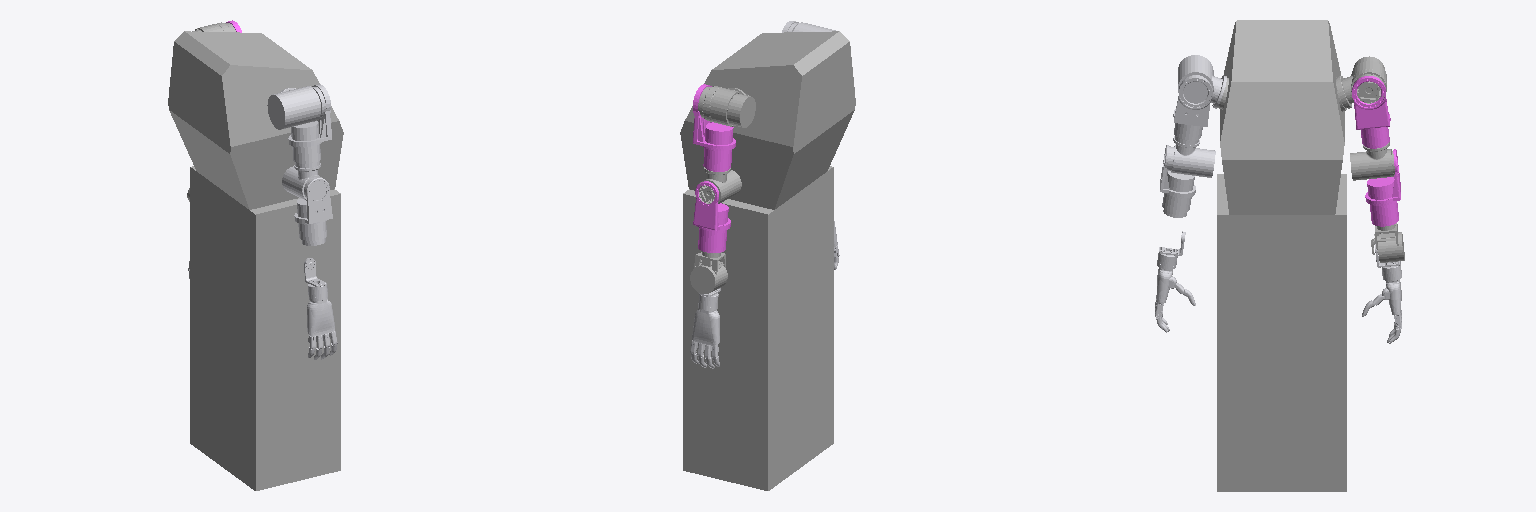
robot.urdf — newnursing:
<robot
  name="newnursing">

  <link name="world"/>
  <joint
        name="base_connected2_world"
        type="fixed">
        <origin
        xyz="0 0 0.7"
        rpy="0 0 -1.570796" />
        <parent
        link="world" />
        <child
        link="base_Link" />
  </joint>

  <link
    name="base_Link">
    <inertial>
      <origin
        xyz="0.00125118023217667 0.00571211217189015 -0.140709209620161"
        rpy="0 0 0" />
      <mass
        value="95.5038362880811" />
      <inertia
        ixx="11.0907233740476"
        ixy="0.000682554632591413"
        ixz="-0.0517799038169192"
        iyy="11.3066493157079"
        iyz="0.493087614689815"
        izz="1.35548319771507" />
    </inertial>
    <visual>
      <origin
        xyz="0 0 0"
        rpy="0 0 0" />
      <geometry>
        <mesh
          filename="package://assembly/meshes/L0.STL" />
      </geometry>
      <material
        name="">
        <color
          rgba="0.752941176470588 0.752941176470588 0.752941176470588 1" />
      </material>
    </visual>
    <collision>
      <origin
        xyz="0 0 0"
        rpy="0 0 0" />
      <geometry>
        <mesh
          filename="package://assembly/meshes/L0.STL" />
      </geometry>
    </collision>
  </link>

  <joint name="neck_link_joint" type="fixed">
    <origin xyz="0 0 1.052" rpy="0 0 0"/>
    <parent link="base_Link"/>
    <child link="neck_link"/>
  </joint>
  <link name="neck_link"/>
  
  <joint name="camera_joint" type="fixed">
    <origin xyz="0.0781 0 -0.322" rpy="0 -0.000528726 0"/>
    <parent link="neck_link"/>
    <child link="camera_mount_link"/>
  </joint>
  <link name="camera_mount_link"/>


  <link
    name="LR1">
    <inertial>
      <origin
        xyz="8.98828320106126E-09 -0.00293592242745783 -0.0212534141841283"
        rpy="0 0 0" />
      <mass
        value="2.15747169774314" />
      <inertia
        ixx="0.0039159844519028"
        ixy="9.55754457347691E-10"
        ixz="-2.77111575117903E-10"
        iyy="0.00365262349092814"
        iyz="0.000102299773397755"
        izz="0.00239174812495883" />
    </inertial>
    <visual>
      <origin
        xyz="0 0 0"
        rpy="0 0 0" />
      <geometry>
        <mesh
          filename="package://assembly/meshes/LR1.STL" />
      </geometry>
      <material
        name="">
        <color
          rgba="0.866666666666667 0.866666666666667 0.890196078431372 1" />
      </material>
    </visual>
    <collision>
      <origin
        xyz="0 0 0"
        rpy="0 0 0" />
      <geometry>
        <mesh
          filename="package://assembly/meshes/LR1.STL" />
      </geometry>
    </collision>
  </link>
  <joint
    name="JR1"
    type="revolute">
    <origin
      xyz="0.21718 0.005 0.33244"
      rpy="1.5708 -1.2217 3.1416" />
    <parent
      link="base_Link" />
    <child
      link="LR1" />
    <axis
      xyz="0 -1 0" />
    <limit
      lower="-2.0858"
      upper="0.6184"
      effort="120"
      velocity="6" />
    <dynamics
      damping="2"
      friction="0.3" />
  </joint>



  <link
    name="LR2">
    <inertial>
      <origin
        xyz="7.96974763961344E-10 0.0015000865054824 -0.0924071969744042"
        rpy="0 0 0" />
      <mass
        value="1.37522903314702" />
      <inertia
        ixx="0.00255574962153346"
        ixy="-8.72623878301597E-11"
        ixz="2.40396158064827E-10"
        iyy="0.00236365743499222"
        iyz="-0.000425917906294408"
        izz="0.00129320260941946" />
    </inertial>
    <visual>
      <origin
        xyz="0 0 0"
        rpy="0 0 0" />
      <geometry>
        <mesh
          filename="package://assembly/meshes/LR2.STL" />
      </geometry>
      <material
        name="">
        <color
          rgba="0.866666666666667 0.866666666666667 0.890196078431372 1" />
      </material>
    </visual>
    <collision>
      <origin
        xyz="0 0 0"
        rpy="0 0 0" />
      <geometry>
        <mesh
          filename="package://assembly/meshes/LR2.STL" />
      </geometry>
    </collision>
  </link>
  <joint
    name="JR2"
    type="revolute">
    <origin
      xyz="0 0 0"
      rpy="1.5708 1.6259E-14 1.7757" />
    <parent
      link="LR1" />
    <child
      link="LR2" />
    <axis
      xyz="0 -1 0" />
    <limit
      lower="-0.0199"
      upper="1.9192"
      effort="120"
      velocity="6" />
    <dynamics
      damping="2"
      friction="0.3" />
  </joint>


  <link
    name="LR3">
    <inertial>
      <origin
        xyz="4.65691851040707E-08 -0.0512426233861256 0.016370508405232"
        rpy="0 0 0" />
      <mass
        value="1.34826710835918" />
      <inertia
        ixx="0.00208076254874643"
        ixy="-4.03797785551324E-09"
        ixz="-4.6534220074945E-10"
        iyy="0.00184109939176927"
        iyz="0.000106562785244077"
        izz="0.00102109494898677" />
    </inertial>
    <visual>
      <origin
        xyz="0 0 0"
        rpy="0 0 0" />
      <geometry>
        <mesh
          filename="package://assembly/meshes/LR3.STL" />
      </geometry>
      <material
        name="">
        <color
          rgba="0.866666666666667 0.866666666666667 0.890196078431372 1" />
      </material>
    </visual>
    <collision>
      <origin
        xyz="0 0 0"
        rpy="0 0 0" />
      <geometry>
        <mesh
          filename="package://assembly/meshes/LR3.STL" />
      </geometry>
    </collision>
  </link>
  <joint
    name="JR3"
    type="revolute">
    <origin
      xyz="0 -0.005 -0.15692"
      rpy="1.5708 -3.3497E-15 -1.5747" />
    <parent
      link="LR2" />
    <child
      link="LR3" />
    <axis
      xyz="0 1 0" />
    <limit
      lower="-0.8610"
      upper="1.6427"
      effort="60"
      velocity="6" />
    <dynamics
      damping="2"
      friction="0.3" />
  </joint>


  <link
    name="LR4">
    <inertial>
      <origin
        xyz="-2.50365132705571E-10 0.00287135059851118 -0.0862731965495294"
        rpy="0 0 0" />
      <mass
        value="1.24992119764275" />
      <inertia
        ixx="0.00182610105204982"
        ixy="7.77646565831212E-12"
        ixz="-2.99027605994251E-13"
        iyy="0.00172088352354759"
        iyz="-0.000159721713914947"
        izz="0.000943726351810488" />
    </inertial>
    <visual>
      <origin
        xyz="0 0 0"
        rpy="0 0 0" />
      <geometry>
        <mesh
          filename="package://assembly/meshes/LR4.STL" />
      </geometry>
      <material
        name="">
        <color
          rgba="0.866666666666667 0.866666666666667 0.890196078431372 1" />
      </material>
    </visual>
    <collision>
      <origin
        xyz="0 0 0"
        rpy="0 0 0" />
      <geometry>
        <mesh
          filename="package://assembly/meshes/LR4.STL" />
      </geometry>
    </collision>
  </link>
  <joint
    name="JR4"
    type="revolute">
    <origin
      xyz="0 -0.056081 0"
      rpy="-1.5708 6.415E-15 -0.0064215" />
    <parent
      link="LR3" />
    <child
      link="LR4" />
    <axis
      xyz="0 -1 0" />
    <limit
      lower="-1.6955"
      upper="0.0004"
      effort="60"
      velocity="6" />
    <dynamics
      damping="2"
      friction="0.3" />
  </joint>


  <link
    name="LR5">
    <inertial>
      <origin
        xyz="-4.09562333173667E-07 -0.0455211167168911 -0.0126817877422067"
        rpy="0 0 0" />
      <mass
        value="0.693177401802725" />
      <inertia
        ixx="0.000866324066214255"
        ixy="-3.95415599163896E-09"
        ixz="-2.49468249606226E-09"
        iyy="0.000576262199993781"
        iyz="0.000175455226079061"
        izz="0.00064519904021367" />
    </inertial>
    <visual>
      <origin
        xyz="0 0 0"
        rpy="0 0 0" />
      <geometry>
        <mesh
          filename="package://assembly/meshes/LR5.STL" />
      </geometry>
      <material
        name="">
        <color
          rgba="0.866666666666667 0.866666666666667 0.890196078431372 1" />
      </material>
    </visual>
    <collision>
      <origin
        xyz="0 0 0"
        rpy="0 0 0" />
      <geometry>
        <mesh
          filename="package://assembly/meshes/LR5.STL" />
      </geometry>
    </collision>
  </link>
  <joint
    name="JR5"
    type="revolute">
    <origin
      xyz="0 0 -0.1476"
      rpy="1.5708 1.1861E-14 0.0046909" />
    <parent
      link="LR4" />
    <child
      link="LR5" />
    <axis
      xyz="0 1 0" />
    <limit
      lower="-1.6711"
      upper="1.6270"
      effort="60"
      velocity="6" />
    <dynamics
      damping="2"
      friction="0.3" />
  </joint>

  <link
    name="LR6">
    <inertial>
      <origin
        xyz="-0.00327778131852274 -0.114201821910276 0.00943175908361554"
        rpy="0 0 0" />
      <mass
        value="0.173615825258922" />
      <inertia
        ixx="0.000964616909090983"
        ixy="-1.91278655045261E-05"
        ixz="1.73215247124374E-05"
        iyy="0.000130345754178878"
        iyz="-5.80900699845923E-05"
        izz="0.000955542750560925" />
    </inertial>
    <visual>
      <origin
        xyz="0 0 0"
        rpy="0 0 0" />
      <geometry>
        <mesh
          filename="package://assembly/meshes/LR6.STL" />
      </geometry>
      <material
        name="">
        <color
          rgba="0.866666666666667 0.866666666666667 0.890196078431372 1" />
      </material>
    </visual>
    <collision>
      <origin
        xyz="0 0 0"
        rpy="0 0 0" />
      <geometry>
        <mesh
          filename="package://assembly/meshes/LR6.STL" />
      </geometry>
    </collision>
  </link>
  <joint
    name="JR6"
    type="revolute">
    <origin
      xyz="0 -0.063404 0"
      rpy="8.5792E-16 5.3161E-15 -0.0042912" />
    <parent
      link="LR5" />
    <child
      link="LR6" />
    <axis
      xyz="0 0 1" />
    <limit
      lower="-0.6010"
      upper="0.4415"
      effort="30"
      velocity="6" />
    <dynamics
      damping="2"
      friction="0.3" />
  </joint>


  <link name="Rplam_Link"/>
  <joint
    name="Rplam_joint"
    type="fixed">
    <origin
      xyz="0 -0.16 0"
      rpy="-4.7783E-19 -1.5708 -9.2245E-20" />
    <parent
      link="LR6" />
    <child
      link="Rplam_Link" />
  </joint>




  <link
    name="LL1">
    <inertial>
      <origin
        xyz="-6.37042760209816E-09 -0.00311606961400701 -0.0203021739937478"
        rpy="0 0 0" />
      <mass
        value="0.742414555702471" />
      <inertia
        ixx="0.0012740812827287"
        ixy="-8.44845865087453E-11"
        ixz="-1.69158880334627E-10"
        iyy="0.00117846286241893"
        iyz="3.56009846333508E-05"
        izz="0.000802045043418103" />
    </inertial>
    <visual>
      <origin
        xyz="0 0 0"
        rpy="0 0 0" />
      <geometry>
        <mesh
          filename="package://assembly/meshes/LL1.STL" />
      </geometry>
      <material
        name="">
        <color
          rgba="0.752941176470588 0.752941176470588 0.752941176470588 1" />
      </material>
    </visual>
    <collision>
      <origin
        xyz="0 0 0"
        rpy="0 0 0" />
      <geometry>
        <mesh
          filename="package://assembly/meshes/LL1.STL" />
      </geometry>
    </collision>
  </link>
  <joint
    name="JL1"
    type="revolute">
    <origin
      xyz="-0.21718 0.005 0.33244"
      rpy="1.5708 1.2217 -3.1416" />
    <parent
      link="base_Link" />
    <child
      link="LL1" />
    <axis
      xyz="0 -1 0" />
    <limit
      lower="-0.4998"
      upper="2.5405"
      effort="120"
      velocity="6" />
  </joint>


  <link
    name="LL2">
    <inertial>
      <origin
        xyz="-1.59942401600777E-07 -0.0900949903759909 -0.00978996979277103"
        rpy="0 0 0" />
      <mass
        value="0.68682778469314" />
      <inertia
        ixx="0.00167905640514389"
        ixy="3.78112905492115E-09"
        ixz="-1.78536754351579E-09"
        iyy="0.000842469561542776"
        iyz="0.000406436027091152"
        izz="0.00154239526729338" />
    </inertial>
    <visual>
      <origin
        xyz="0 0 0"
        rpy="0 0 0" />
      <geometry>
        <mesh
          filename="package://assembly/meshes/LL2.STL" />
      </geometry>
      <material
        name="">
        <color
          rgba="1 0.501960784313725 1 1" />
      </material>
    </visual>
    <collision>
      <origin
        xyz="0 0 0"
        rpy="0 0 0" />
      <geometry>
        <mesh
          filename="package://assembly/meshes/LL2.STL" />
      </geometry>
    </collision>
  </link>
  <joint
    name="JL2"
    type="revolute">
    <origin
      xyz="0 0 0"
      rpy="3.1416 -7.9803E-16 -1.8108" />
    <parent
      link="LL1" />
    <child
      link="LL2" />
    <axis
      xyz="0 0 1" />
    <limit
      lower="-2.2806"
      upper="0.1269"
      effort="120"
      velocity="6" />
  </joint>


  <link
    name="LL3">
    <inertial>
      <origin
        xyz="3.21767517434115E-08 -0.0675560201834257 0.0139465479319382"
        rpy="0 0 0" />
      <mass
        value="0.437839302029068" />
      <inertia
        ixx="0.00058672166818976"
        ixy="-9.21102167300725E-10"
        ixz="-5.62144252678658E-11"
        iyy="0.000545687428782642"
        iyz="1.61583368753071E-05"
        izz="0.00031046233442883" />
    </inertial>
    <visual>
      <origin
        xyz="0 0 0"
        rpy="0 0 0" />
      <geometry>
        <mesh
          filename="package://assembly/meshes/LL3.STL" />
      </geometry>
      <material
        name="">
        <color
          rgba="0.752941176470588 0.752941176470588 0.752941176470588 1" />
      </material>
    </visual>
    <collision>
      <origin
        xyz="0 0 0"
        rpy="0 0 0" />
      <geometry>
        <mesh
          filename="package://assembly/meshes/LL3.STL" />
      </geometry>
    </collision>
  </link>
  <joint
    name="JL3"
    type="revolute">
    <origin
      xyz="0 -0.15287 0.005"
      rpy="5.8768E-13 1.5684 5.8279E-13" />
    <parent
      link="LL2" />
    <child
      link="LL3" />
    <axis
      xyz="0 1 0" />
    <limit
      lower="-1.1300"
      upper="1.4936"
      effort="60"
      velocity="6" />
  </joint>


  <link
    name="LL4">
    <inertial>
      <origin
        xyz="-2.55573985041575E-08 -0.00697068364470027 -0.0912337876171683"
        rpy="0 0 0" />
      <mass
        value="0.564926626991847" />
      <inertia
        ixx="0.00104600587867379"
        ixy="-5.19706723763342E-10"
        ixz="3.39358092068315E-10"
        iyy="0.00094490837319263"
        iyz="0.000173685315173717"
        izz="0.00052296228447961" />
    </inertial>
    <visual>
      <origin
        xyz="0 0 0"
        rpy="0 0 0" />
      <geometry>
        <mesh
          filename="package://assembly/meshes/LL4.STL" />
      </geometry>
      <material
        name="">
        <color
          rgba="1 0.501960784313725 1 1" />
      </material>
    </visual>
    <collision>
      <origin
        xyz="0 0 0"
        rpy="0 0 0" />
      <geometry>
        <mesh
          filename="package://assembly/meshes/LL4.STL" />
      </geometry>
    </collision>
  </link>
  <joint
    name="JL4"
    type="revolute">
    <origin
      xyz="0 -0.070131 0"
      rpy="1.5708 1.5909E-14 -3.1308" />
    <parent
      link="LL3" />
    <child
      link="LL4" />
    <axis
      xyz="0 1 0" />
    <limit
      lower="-0.0017"
      upper="1.7891"
      effort="60"
      velocity="6" />
  </joint>


  <link
    name="LL5">
    <inertial>
      <origin
        xyz="-2.7285871747723E-05 -0.0769462900817405 -0.00393937125918359"
        rpy="0 0 0" />
      <mass
        value="0.307795414476204" />
      <inertia
        ixx="0.00030350174251315"
        ixy="3.65474241742097E-07"
        ixz="4.4686800853968E-08"
        iyy="0.000210127575480133"
        iyz="-9.9553262377435E-06"
        izz="0.000294140122670997" />
    </inertial>
    <visual>
      <origin
        xyz="0 0 0"
        rpy="0 0 0" />
      <geometry>
        <mesh
          filename="package://assembly/meshes/LL5.STL" />
      </geometry>
      <material
        name="">
        <color
          rgba="0.752941176470588 0.752941176470588 0.752941176470588 1" />
      </material>
    </visual>
    <collision>
      <origin
        xyz="0 0 0"
        rpy="0 0 0" />
      <geometry>
        <mesh
          filename="package://assembly/meshes/LL5.STL" />
      </geometry>
    </collision>
  </link>
  <joint
    name="JL5"
    type="revolute">
    <origin
      xyz="0 0 -0.14672"
      rpy="1.5708 3.629E-15 3.1403" />
    <parent
      link="LL4" />
    <child
      link="LL5" />
    <axis
      xyz="0 1 0" />
    <limit
      lower="-0.9529"
      upper="1.1191"
      effort="60"
      velocity="6" />
  </joint>


  <link
    name="LL6">
    <inertial>
      <origin
        xyz="0.0032377127173702 -0.114191079305633 0.00943041174763107"
        rpy="0 0 0" />
      <mass
        value="0.173577655802291" />
      <inertia
        ixx="0.000964471788242522"
        ixy="1.95939539811118E-05"
        ixz="-1.73706278601833E-05"
        iyy="0.000130370358877101"
        iyz="-5.80992206345396E-05"
        izz="0.000955450552032434" />
    </inertial>
    <visual>
      <origin
        xyz="0 0 0"
        rpy="0 0 0" />
      <geometry>
        <mesh
          filename="package://assembly/meshes/LL6.STL" />
      </geometry>
      <material
        name="">
        <color
          rgba="0.866666666666667 0.866666666666667 0.890196078431372 1" />
      </material>
    </visual>
    <collision>
      <origin
        xyz="0 0 0"
        rpy="0 0 0" />
      <geometry>
        <mesh
          filename="package://assembly/meshes/LL6.STL" />
      </geometry>
    </collision>
  </link>
  <joint
    name="JL6"
    type="revolute">
    <origin
      xyz="0 -0.084276 0"
      rpy="1.5384E-15 4.1538E-15 -0.0063056" />
    <parent
      link="LL5" />
    <child
      link="LL6" />
    <axis
      xyz="0 0 1" />
    <limit
      lower="-0.4722"
      upper="0.8769"
      effort="30"
      velocity="6" />
  </joint>

  <link name="Lplam_Link"/>
  <joint
    name="Lplam_joint"
    type="fixed">
    <origin
      xyz="0 -0.16 0"
      rpy="0 -1.5708 0" />
    <parent
      link="LL6" />
    <child
      link="Lplam_Link" />
  </joint>


</robot>

--- Facts derived from the render (not from the file) ---
3 views of the same robot in one strip: view 1: azimuth 30°, elevation 25°; view 2: azimuth 150°, elevation 25°; view 3: azimuth 270°, elevation 25° (orthographic).
Model newnursing with 18 links and 17 joints (12 revolute, 5 fixed), rooted at world, posed all joints at 0.
Links seen in each view (by area): view 1: base_Link, LR6, LR1, LR2, LR4, LR3; view 2: base_Link, LL1, LL2, LL6, LL4, LL5, LL3; view 3: base_Link, LL2, LR2, LL4, LR1, LR4, LL1, LR6, LR3, LL6, LL3, LL5.
Link boxes in pixels (<box>): base_Link: <box>168,31,343,490</box>; LR6: <box>304,258,337,359</box>; LR1: <box>267,86,325,129</box>; LR2: <box>288,84,331,168</box>; LR4: <box>294,178,332,245</box>; LR3: <box>282,163,326,200</box>; base_Link: <box>680,31,855,490</box>; LL1: <box>698,86,755,127</box>; LL2: <box>693,84,735,171</box>; LL6: <box>690,288,720,368</box>; LL4: <box>693,181,730,252</box>; LL5: <box>690,251,727,293</box>; LL3: <box>699,167,741,203</box>; base_Link: <box>1217,20,1346,491</box>; LL2: <box>1352,76,1390,148</box>; LR2: <box>1173,76,1212,144</box>; LL4: <box>1365,149,1400,226</box>; LR1: <box>1178,55,1226,108</box>; LR4: <box>1160,145,1195,217</box>; LL1: <box>1338,56,1386,108</box>; LR6: <box>1155,231,1195,332</box>; LR3: <box>1167,136,1215,177</box>; LL6: <box>1362,244,1401,343</box>; LL3: <box>1350,142,1394,180</box>; LL5: <box>1371,223,1404,262</box>.
Bounding box of the posed robot: 0.3332 × 0.6256 × 1.17 m (x, y, z).
12 mesh visuals loaded from 13 distinct referenced files (12 binary STL); not drawn: 1 (reference not matched to a file when rendering).